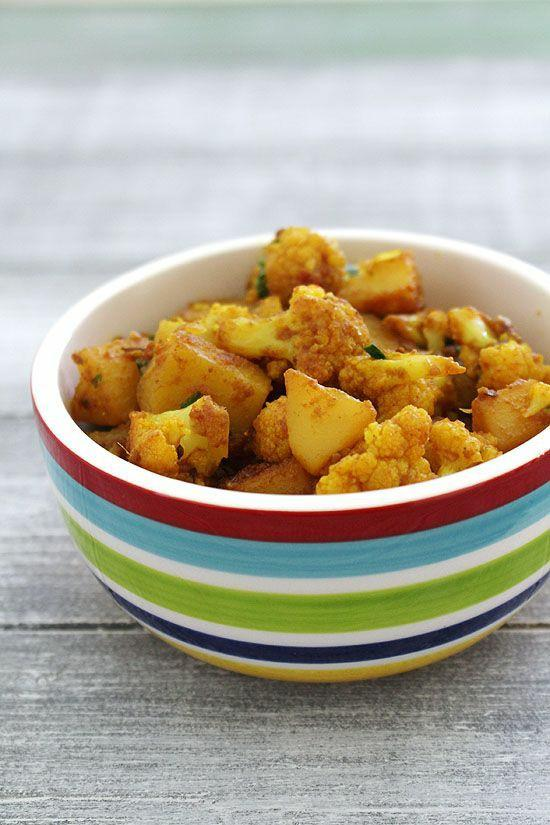AlooGobi: (70, 224, 550, 495)
